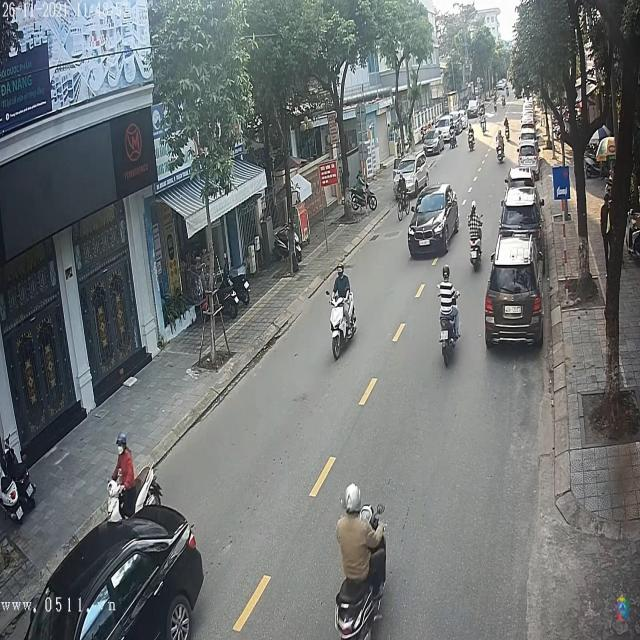car: (485, 244, 543, 348), (407, 182, 462, 262), (499, 190, 543, 238), (424, 126, 447, 156)
motorcycle: (329, 290, 357, 366), (438, 301, 462, 368), (468, 232, 484, 270)
